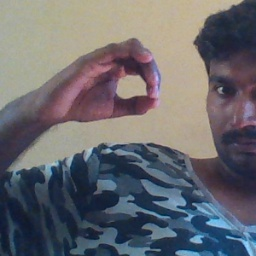O: (35, 28, 166, 136)
